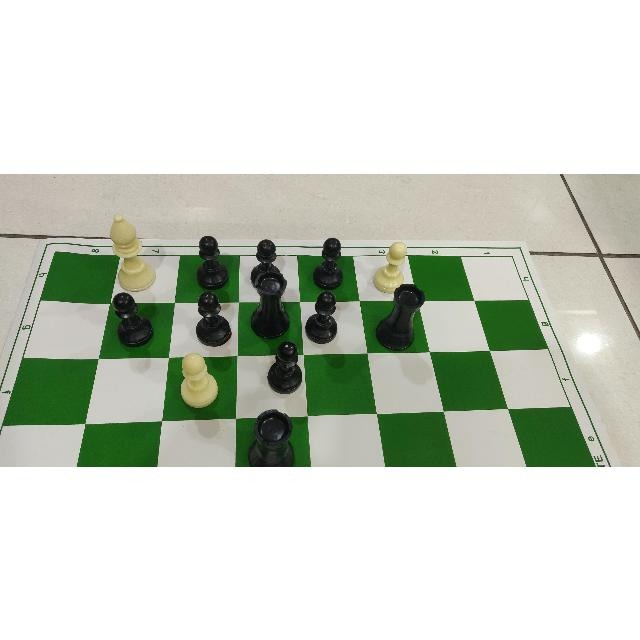black-pawn: (110, 290, 154, 348), (112, 291, 153, 347), (195, 289, 233, 346), (266, 339, 304, 395), (304, 287, 340, 345), (196, 233, 230, 291), (196, 290, 231, 345), (267, 340, 302, 393), (249, 236, 283, 289), (311, 235, 344, 289), (196, 234, 228, 289), (305, 289, 337, 343), (251, 239, 283, 289), (313, 237, 343, 289)
black-rook: (374, 282, 426, 352), (375, 282, 425, 349), (249, 269, 290, 339), (247, 407, 295, 466), (250, 269, 290, 338), (248, 408, 294, 465)
white-bishop: (107, 212, 157, 292), (110, 213, 156, 291)
white-pawn: (178, 350, 219, 410), (180, 352, 218, 407), (371, 239, 408, 293), (373, 241, 407, 293)
